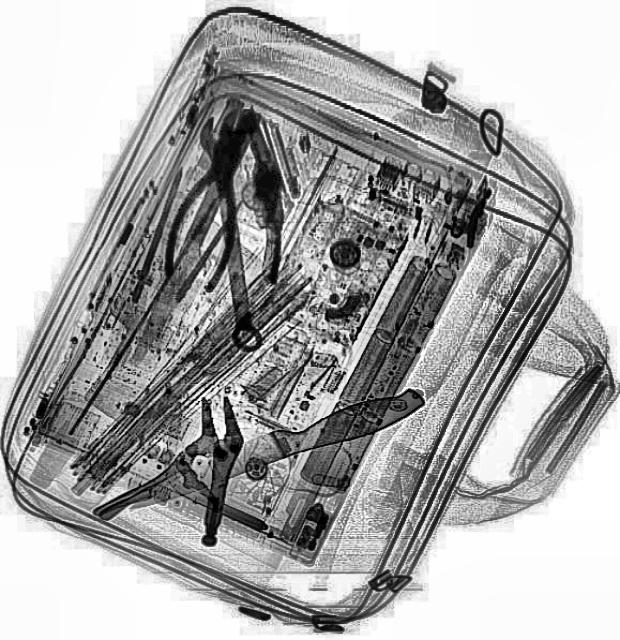Gun: (208, 102, 318, 282)
Knife: (121, 376, 429, 520), (124, 106, 274, 368)
Pliers: (156, 109, 264, 295)
Wrench: (196, 114, 272, 352)
